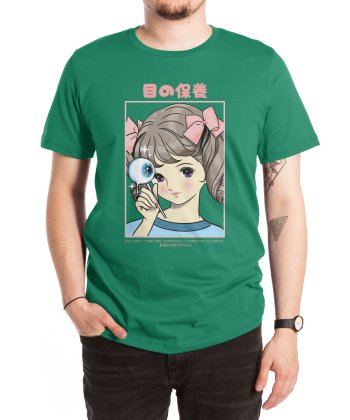design: (120, 79, 228, 249)
